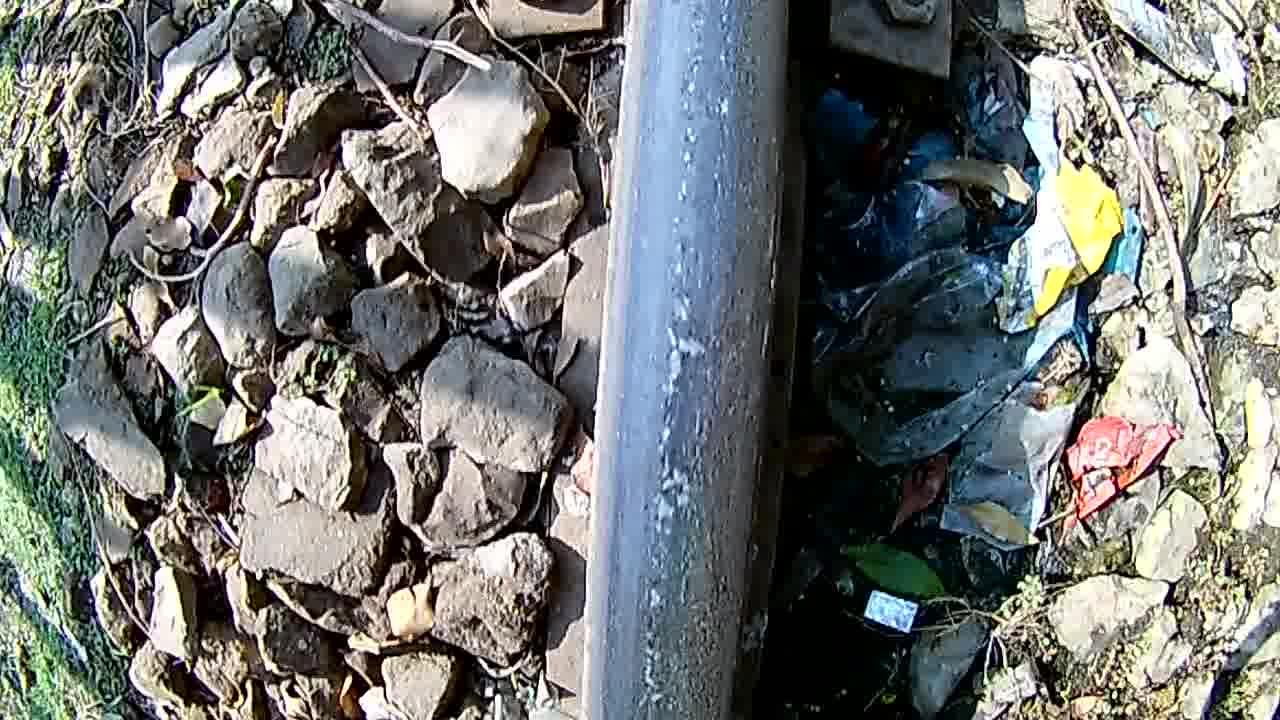clip_missing: (621, 5, 763, 720)
